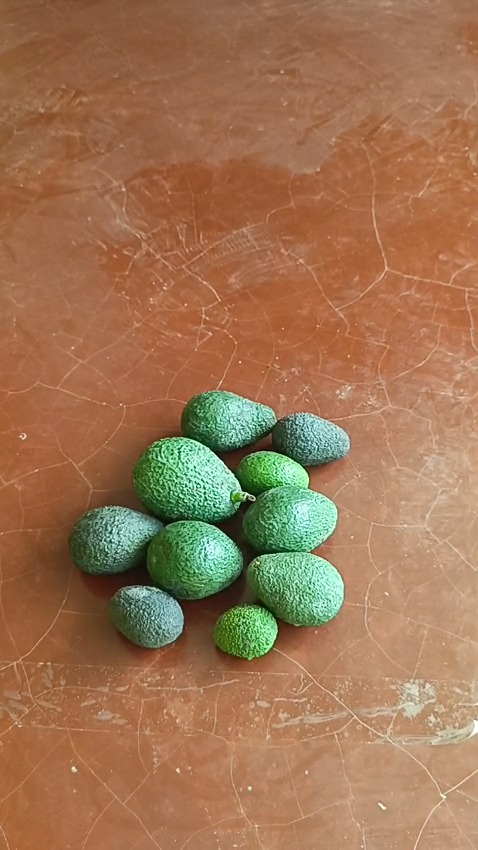Primera: (131, 437, 245, 523)
Segunda: (145, 520, 244, 599), (245, 551, 342, 625), (68, 506, 165, 575), (242, 484, 337, 553), (180, 389, 278, 452)
Tercera: (106, 583, 184, 649), (270, 411, 351, 466), (214, 603, 281, 660), (234, 450, 307, 495)
